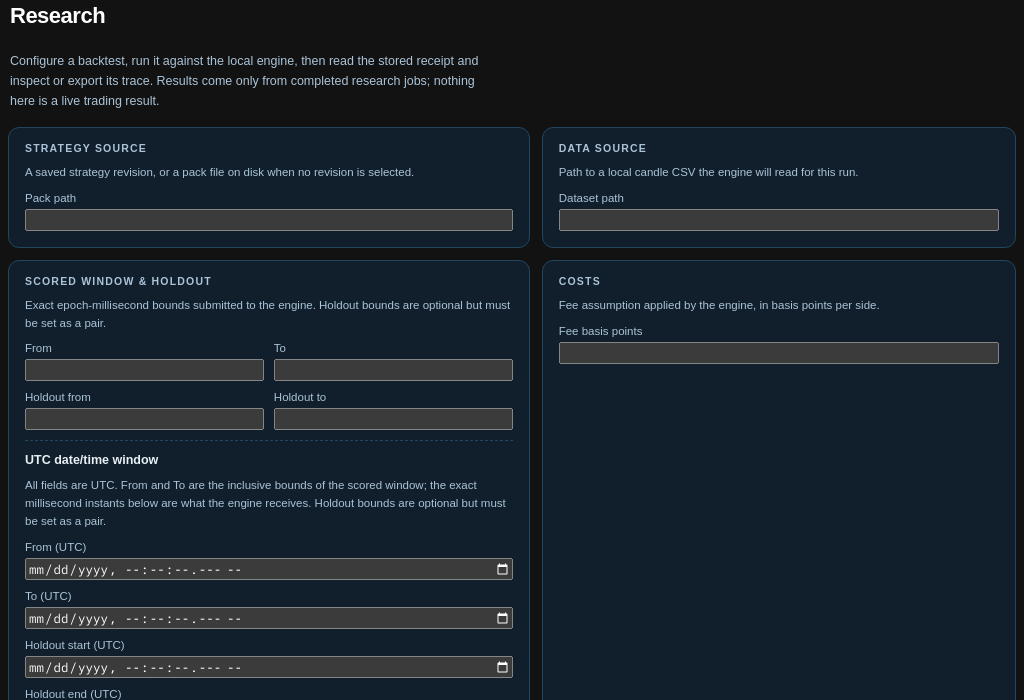
Test: ResearchView windowed trace › clicking a mounted trace button reveals the bar detail
In the field labelled "Dataset path": [779, 220] box [559, 209, 999, 231], type "fixtures/synthetic.csv"
In the field labelled "Fee basis points": [779, 353] box [559, 342, 999, 364], type "10"
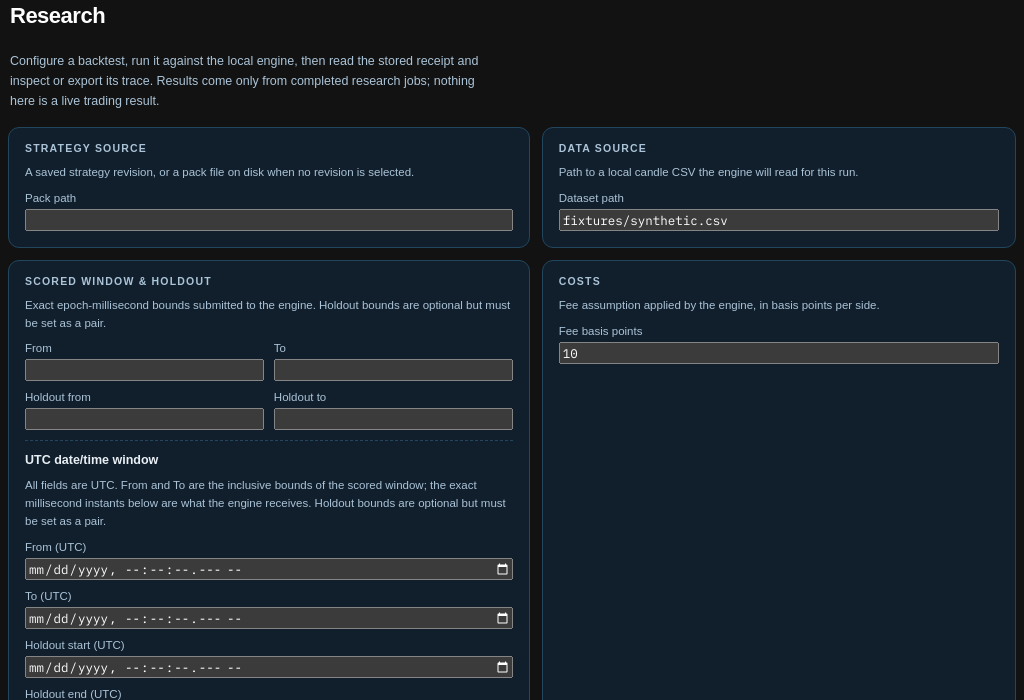
In the field labelled "From": [144, 370] box [25, 359, 264, 381], type "0"
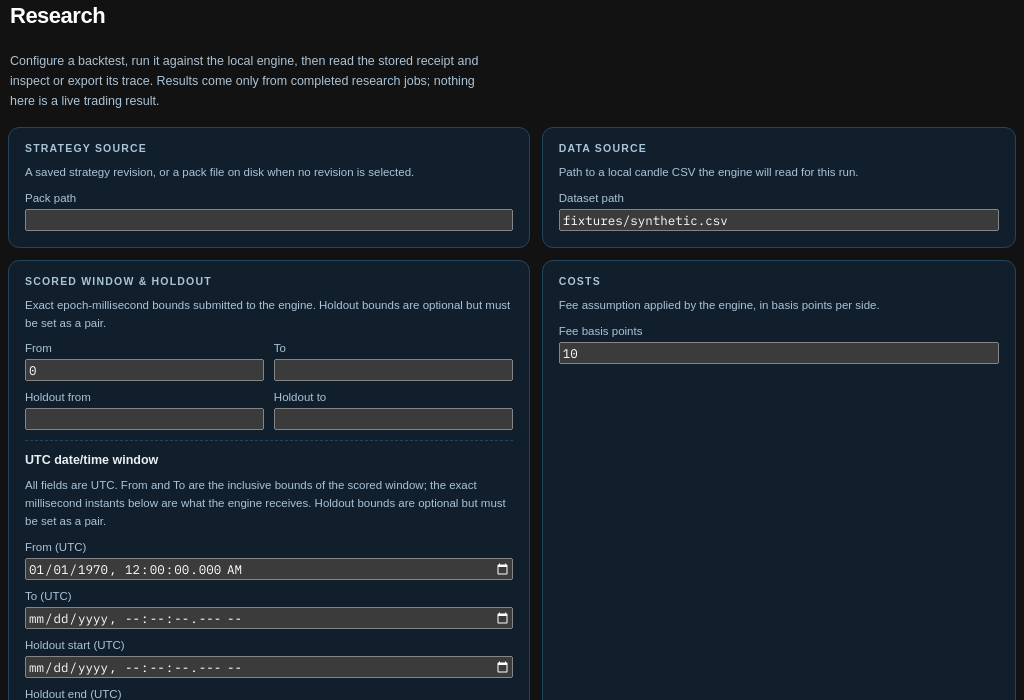
In the field labelled "To": [393, 370] box [274, 359, 513, 381], type "0"
(page scrolled)
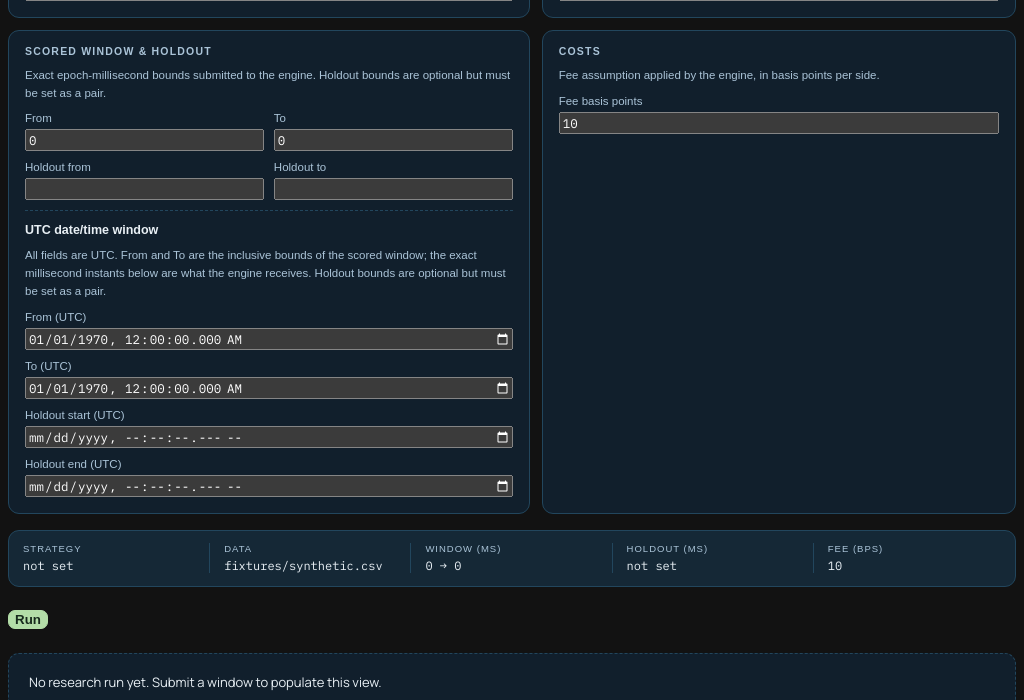
Click the button "Run": [28, 620] box [8, 610, 48, 629]
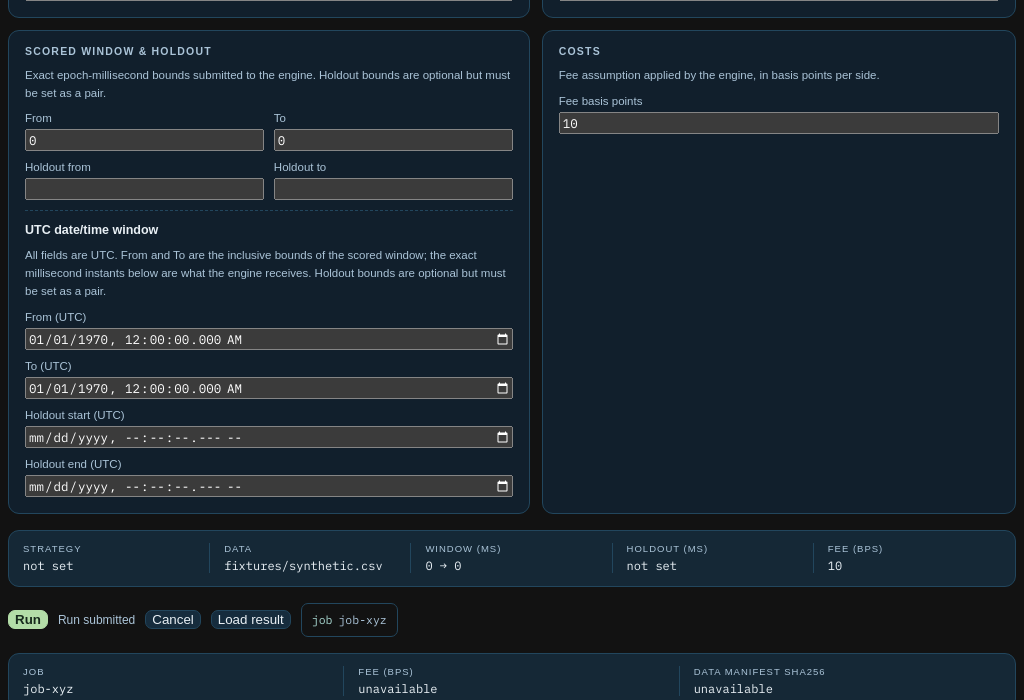
Expected: the element with test id "research-job-id" is shown, [301, 603, 398, 637]
Click the button "Load result": [251, 620] box [211, 610, 291, 629]
(page scrolled)
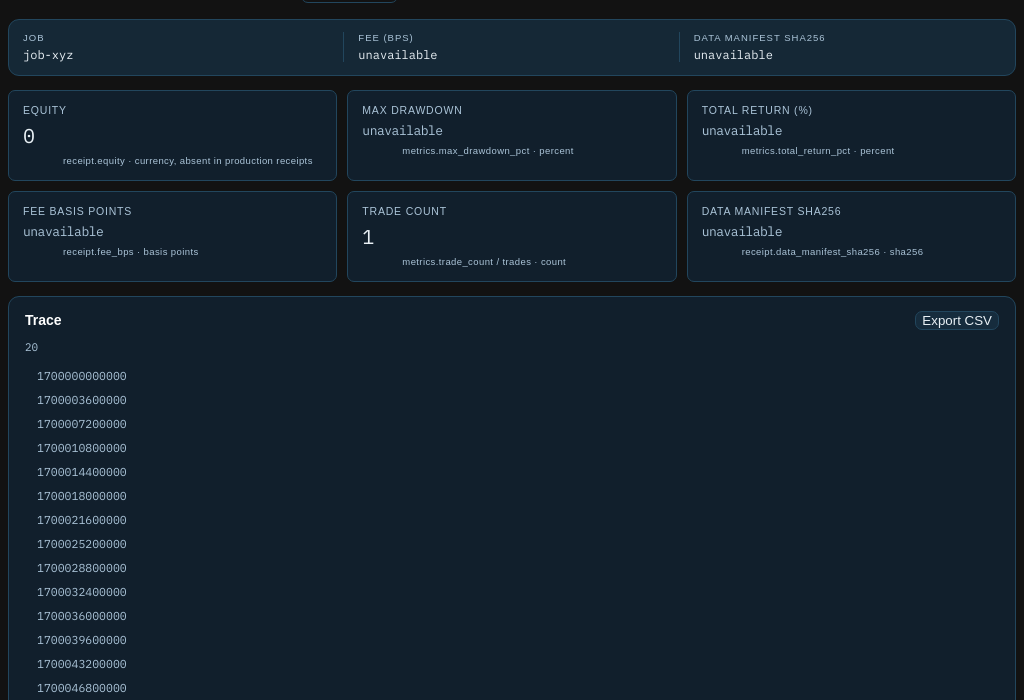
Expected: the button "1700000000000" is shown
Click the button "1700000000000": [82, 376] box [25, 364, 999, 388]
(page scrolled)
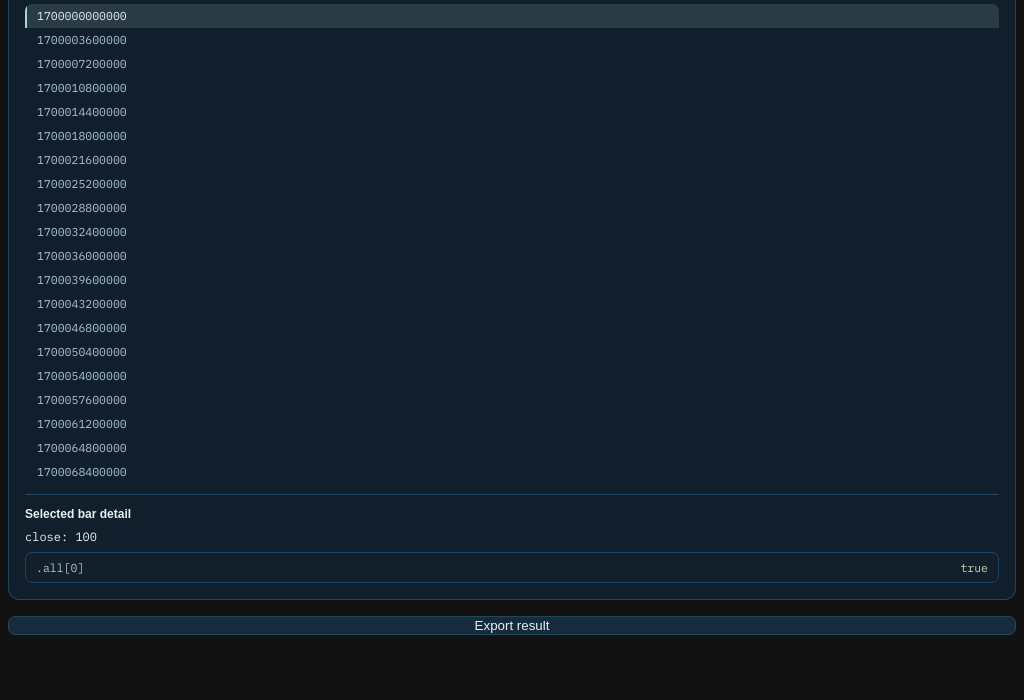
Expected: the element with test id "research-bar-detail" is shown, [25, 494, 999, 583]
